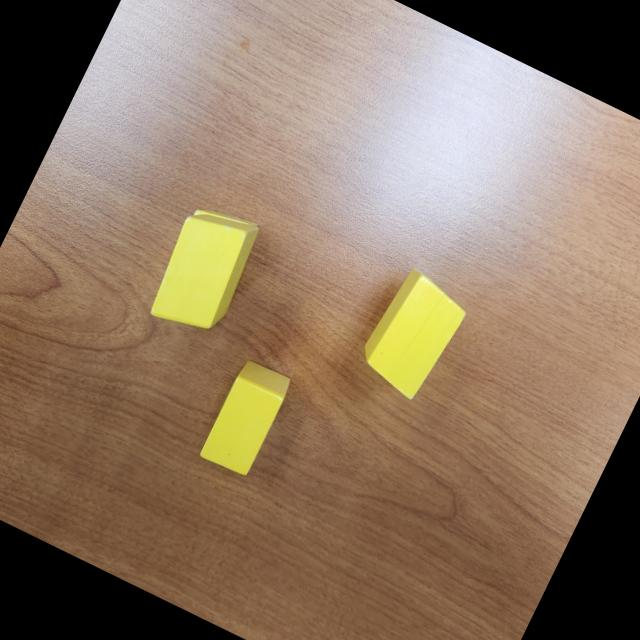yellow: (140, 197, 266, 345), (351, 262, 474, 404), (198, 357, 294, 479), (188, 194, 258, 244)
